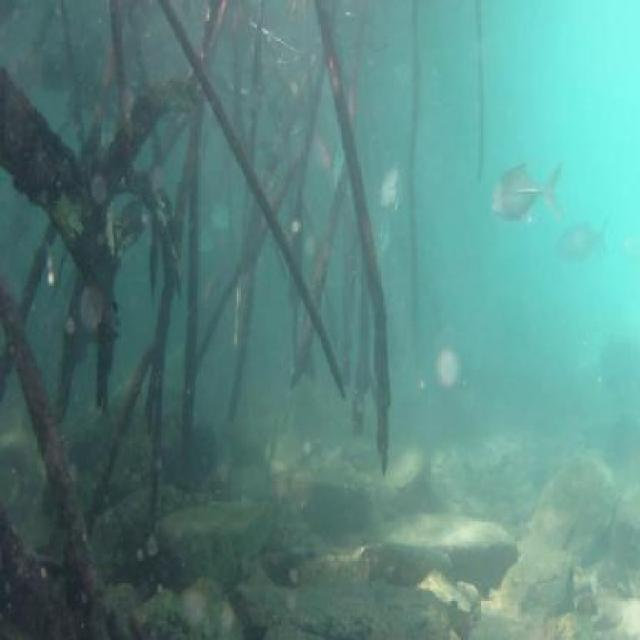Caranx_sexfasciatus_juvenile: (485, 156, 561, 232), (555, 210, 611, 272), (378, 161, 404, 214), (371, 205, 392, 269)
